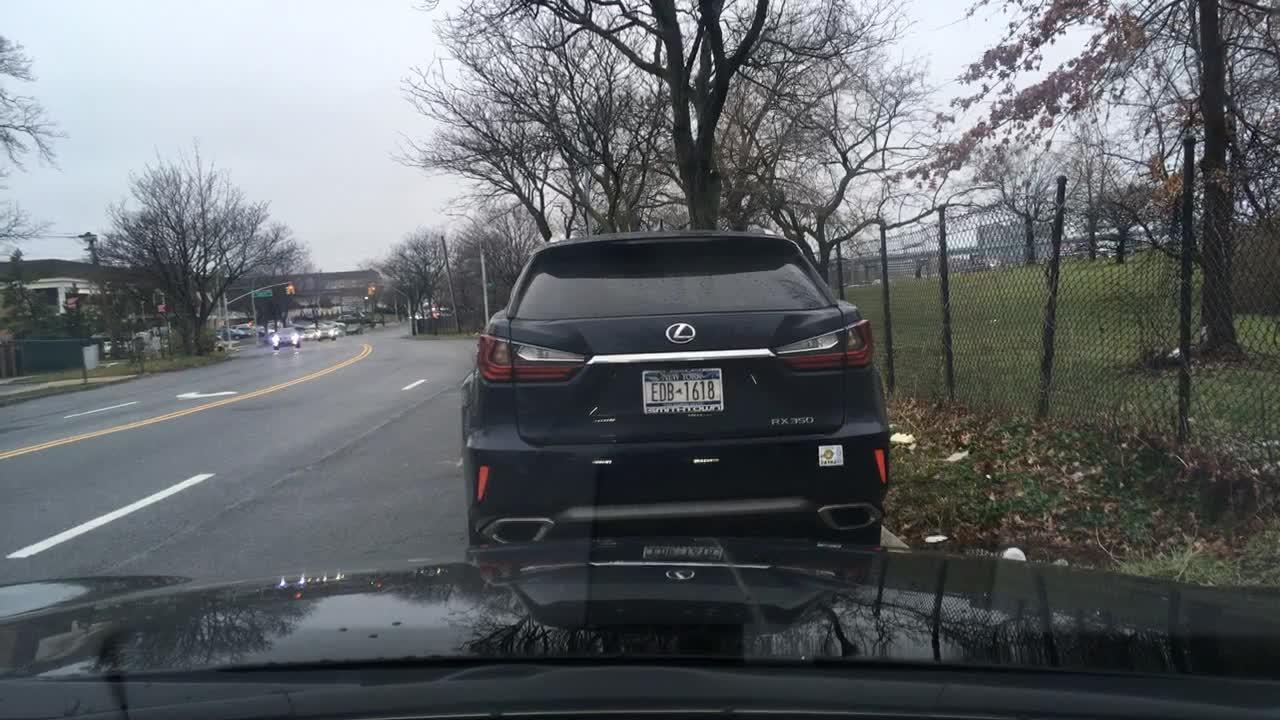lexus: (657, 306, 712, 357)
